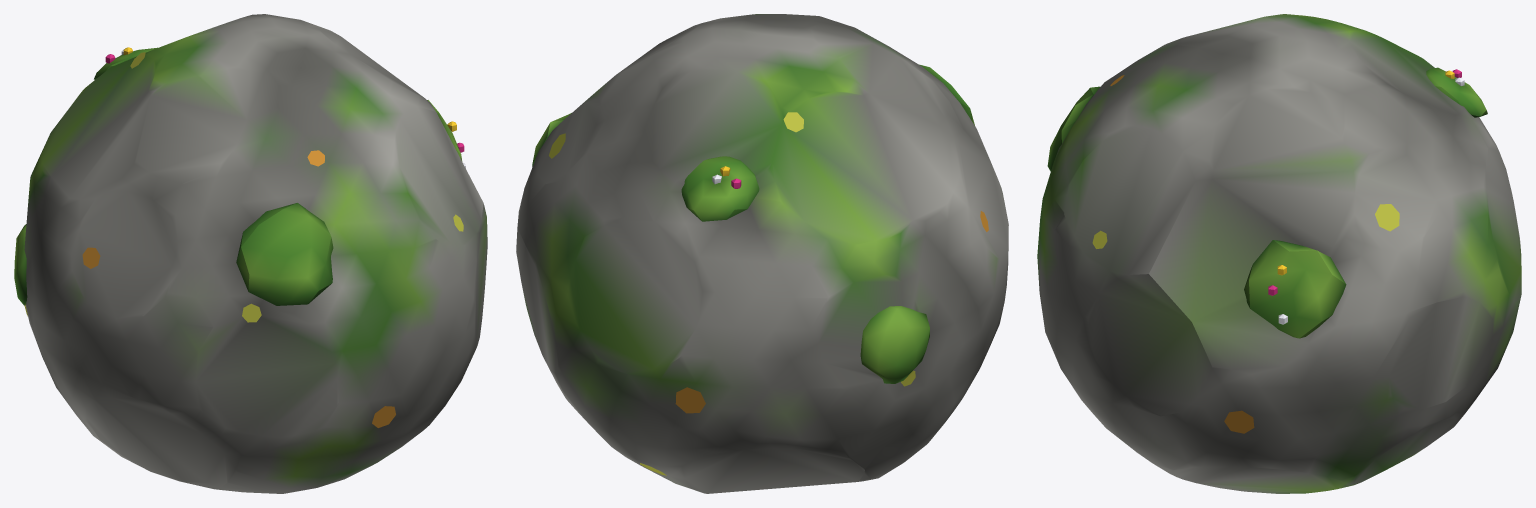
The model's file is boulder_mountain.glb.
3 renders of one model, left to right at view 1: azimuth 30°, elevation 25°; view 2: azimuth 150°, elevation 25°; view 3: azimuth 270°, elevation 25°, orthographic. The views are drawn at different scales.
Parts seen in each view (by area): view 1: shell; view 2: shell; view 3: shell.
Boxes of the visible parts, box(x1,y1,x2,y2) form: shell: box(14, 14, 487, 493); shell: box(516, 14, 1008, 493); shell: box(1037, 14, 1521, 493).
Size of the model in its own units: 1.81 by 1.8 by 1.79.
